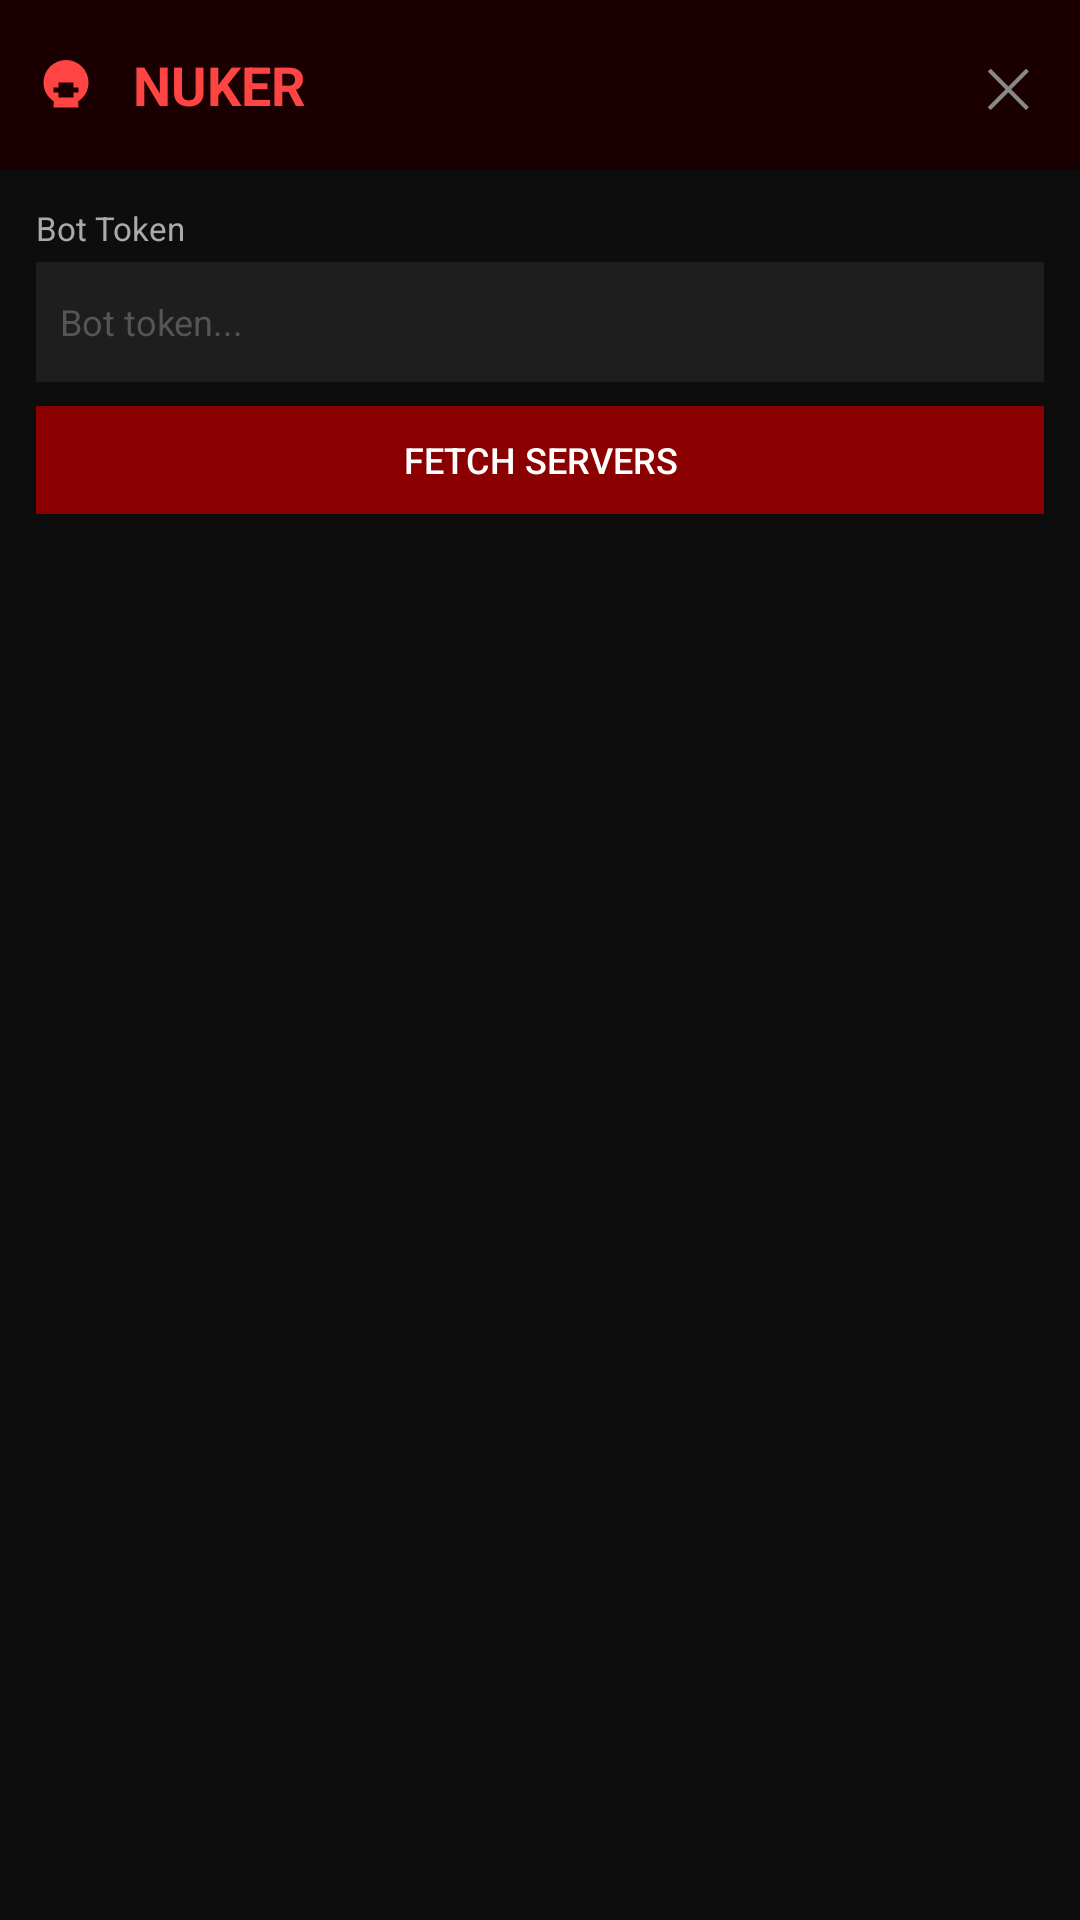

Icons on this 1080×1920 Android screen, each with the point to tap as point (x, y):
skull: point (66, 84)
